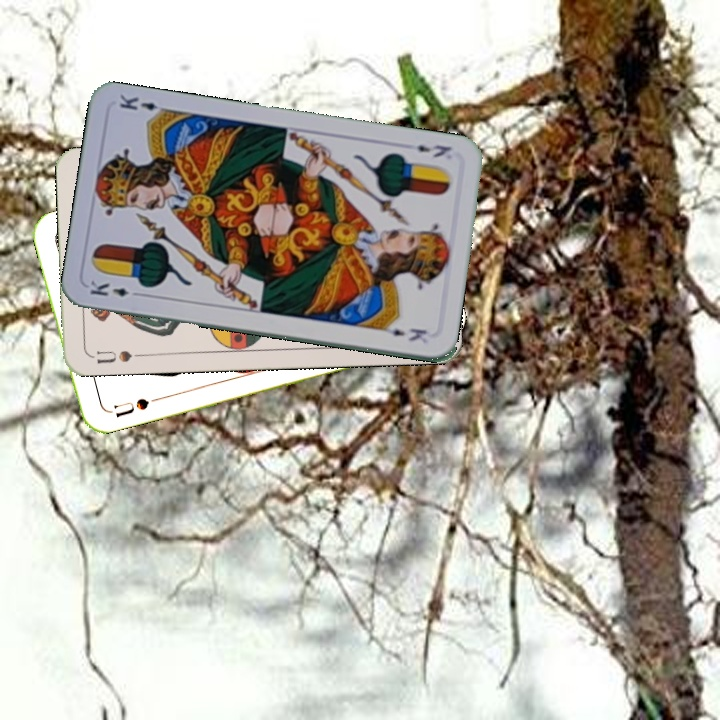EK: (86, 277, 145, 300), (401, 140, 454, 160)
SU: (102, 394, 152, 420), (87, 346, 146, 366)
